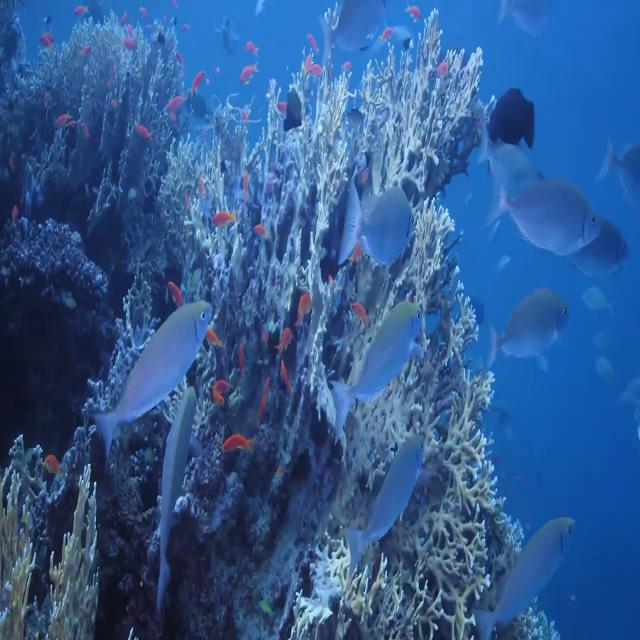fish: (97, 284, 220, 468), (322, 424, 446, 561), (146, 354, 208, 616), (312, 286, 437, 412), (477, 495, 580, 640), (468, 165, 598, 262), (339, 165, 435, 288), (468, 288, 576, 382), (315, 0, 395, 72), (479, 68, 551, 146), (580, 200, 633, 278), (269, 73, 317, 145), (594, 108, 629, 194), (494, 0, 563, 37), (215, 420, 256, 459), (238, 51, 264, 91), (40, 443, 65, 484), (215, 202, 243, 236), (188, 70, 210, 108), (294, 286, 316, 318), (211, 370, 228, 410)
